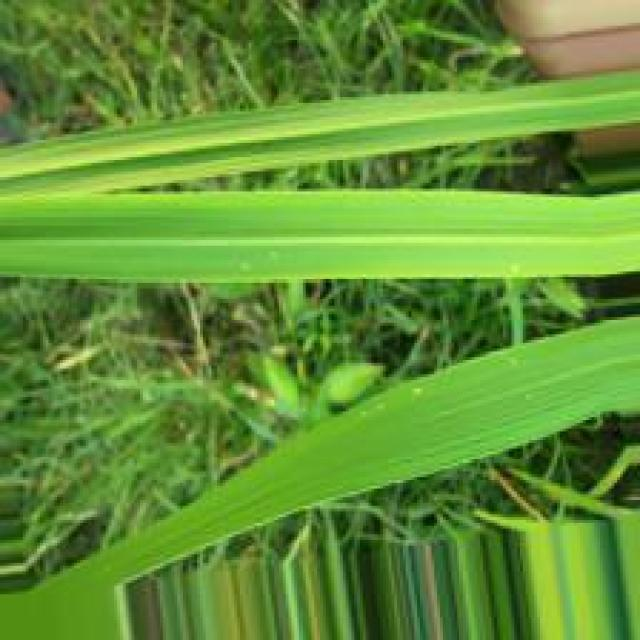HealthyLeaf: (158, 321, 637, 560), (52, 106, 556, 181), (2, 203, 393, 280)
